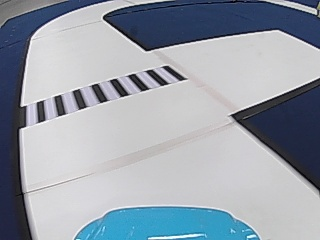CrossWalk: (32, 67, 178, 120)
